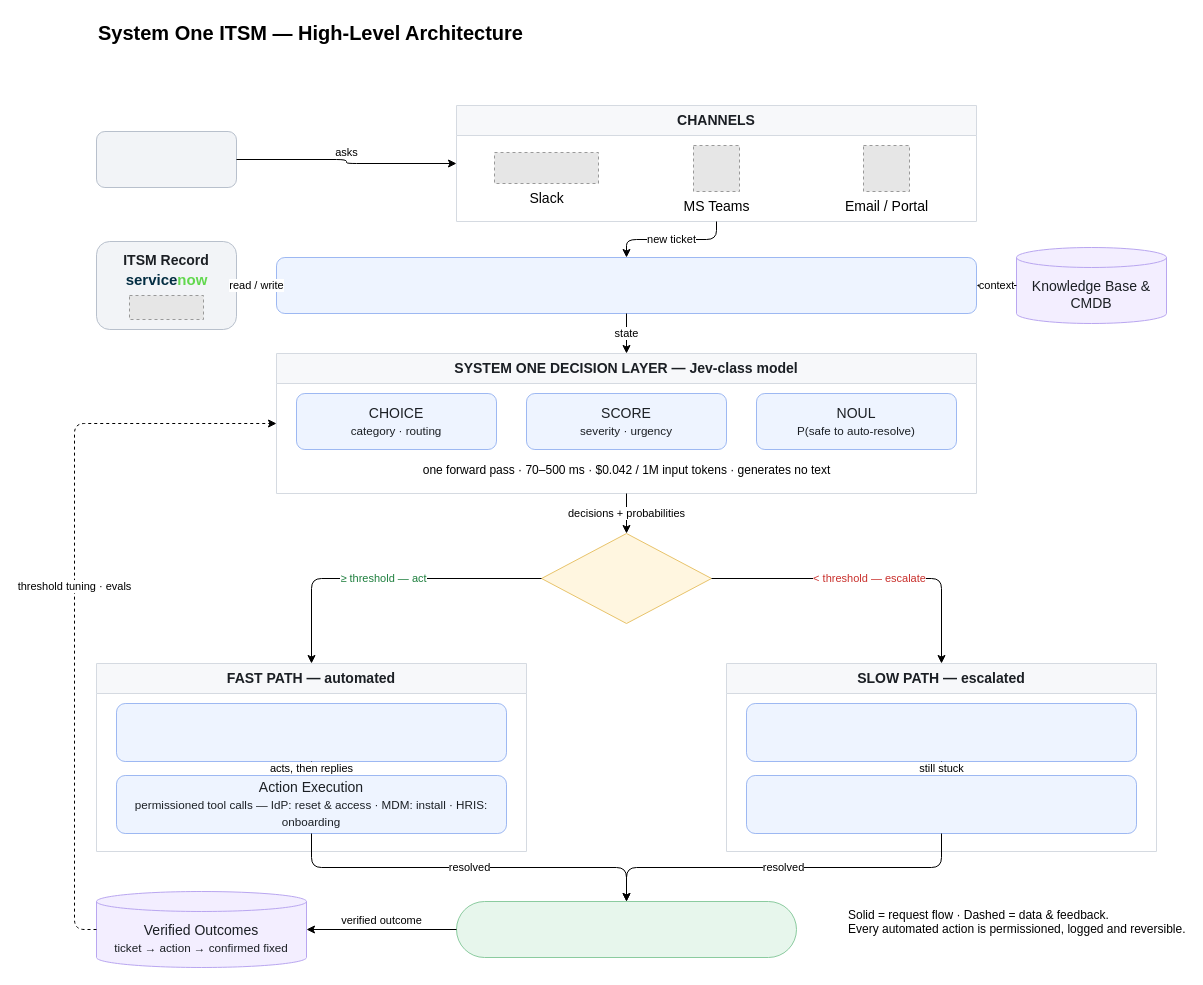
This 1203x985 diagram has some shape labels left out. Grey dashed boxes stand in for pictures. The shapes that lost their labels are listed below. From the top down, each one's centre as x and y in pixels, then its label:
(x=166, y=159): Employees ask for help
(x=626, y=285): Intake & State Assembly ticket + user · device · history
(x=626, y=578): Confidence ≥ threshold?
(x=311, y=732): Small Language Model writes reply · summary · KB draft — self-hosted, in-VPC
(x=941, y=732): Frontier LLM reasoning for the hard 20%
(x=941, y=804): Human Agents L2 / L3 full context handed over
(x=626, y=929): Resolved & closed in ITSM
